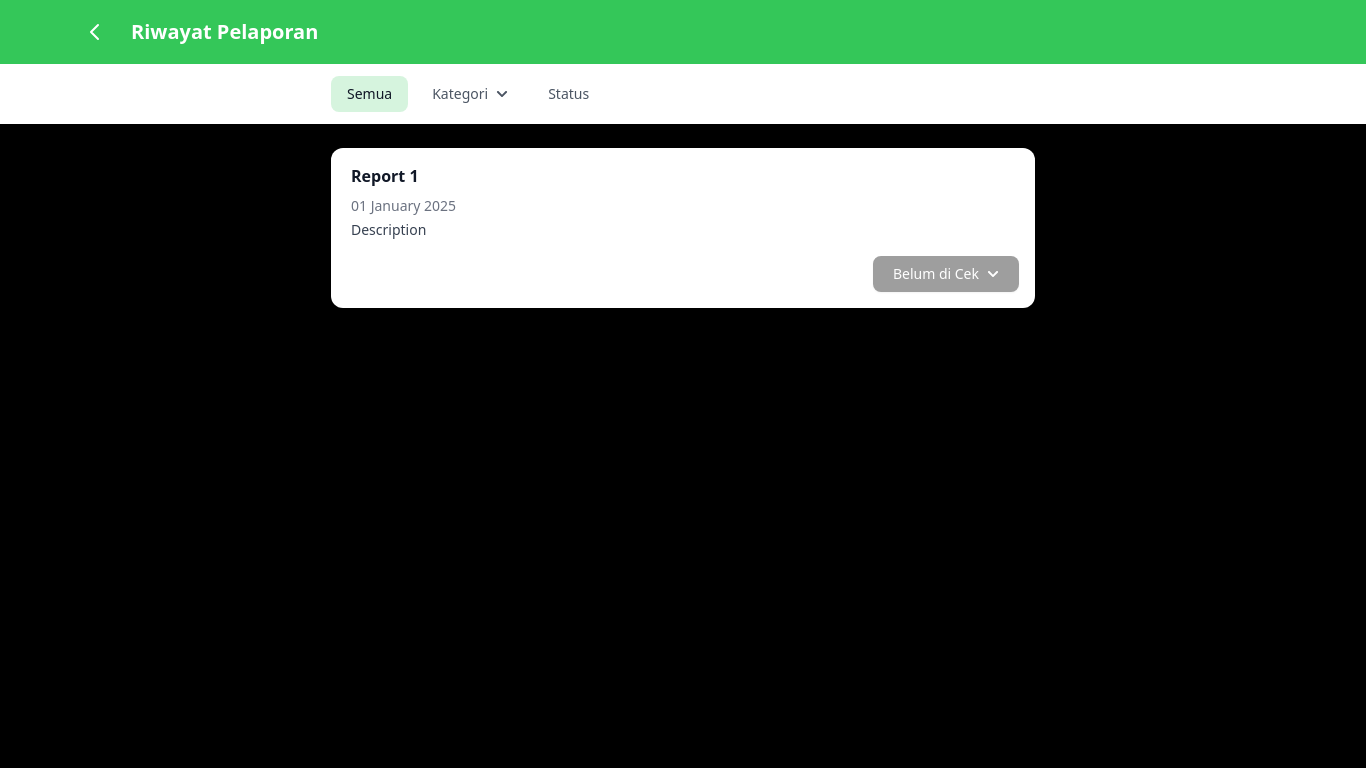
Test: RiwayatPelaporan Component › should toggle select mode
Expected: the heading "Report 1" is shown, [351, 164, 419, 188]
// Find status button and open dropdown
Click the button "Belum di Cek" at (946, 274), box [873, 256, 1019, 292]
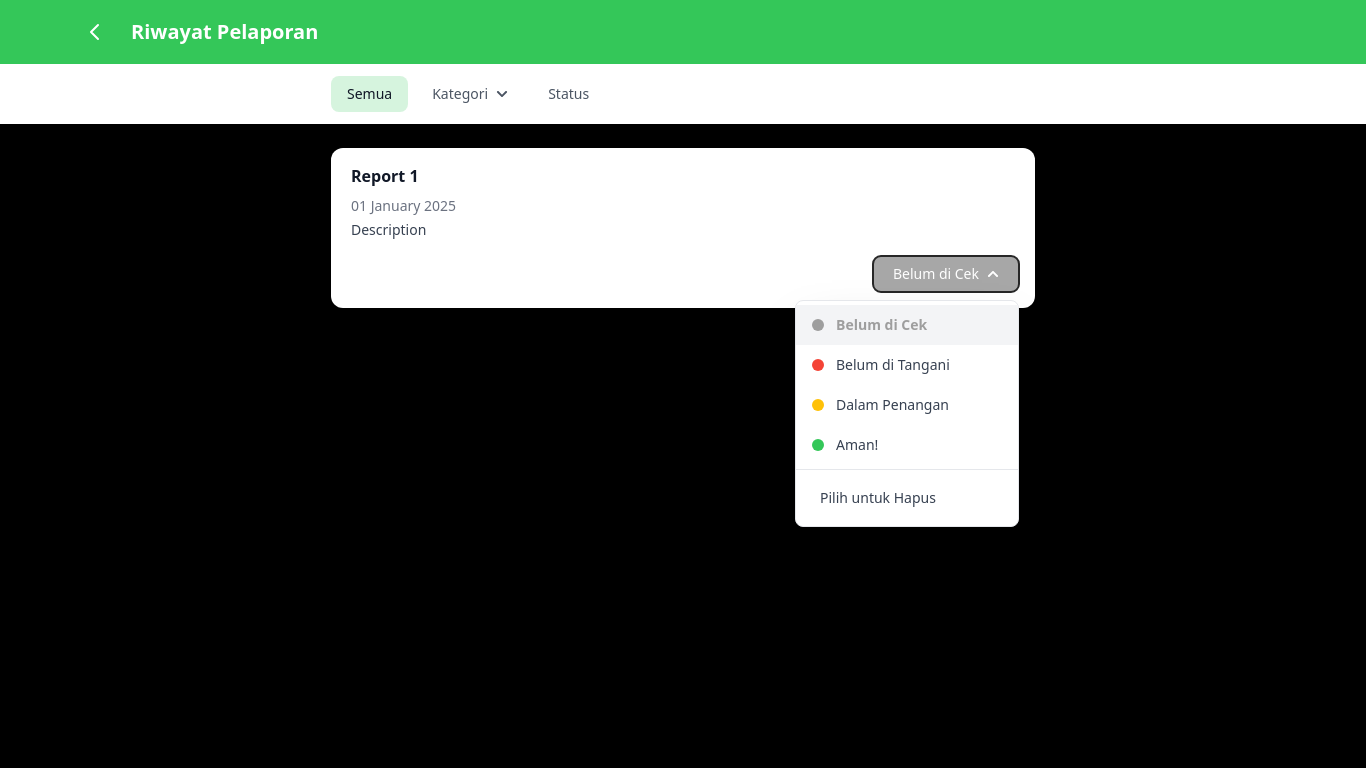
// Wait for dropdown and find "Pilih untuk Hapus" option
Click the button "Pilih untuk Hapus" at (907, 498), box [804, 478, 1010, 518]
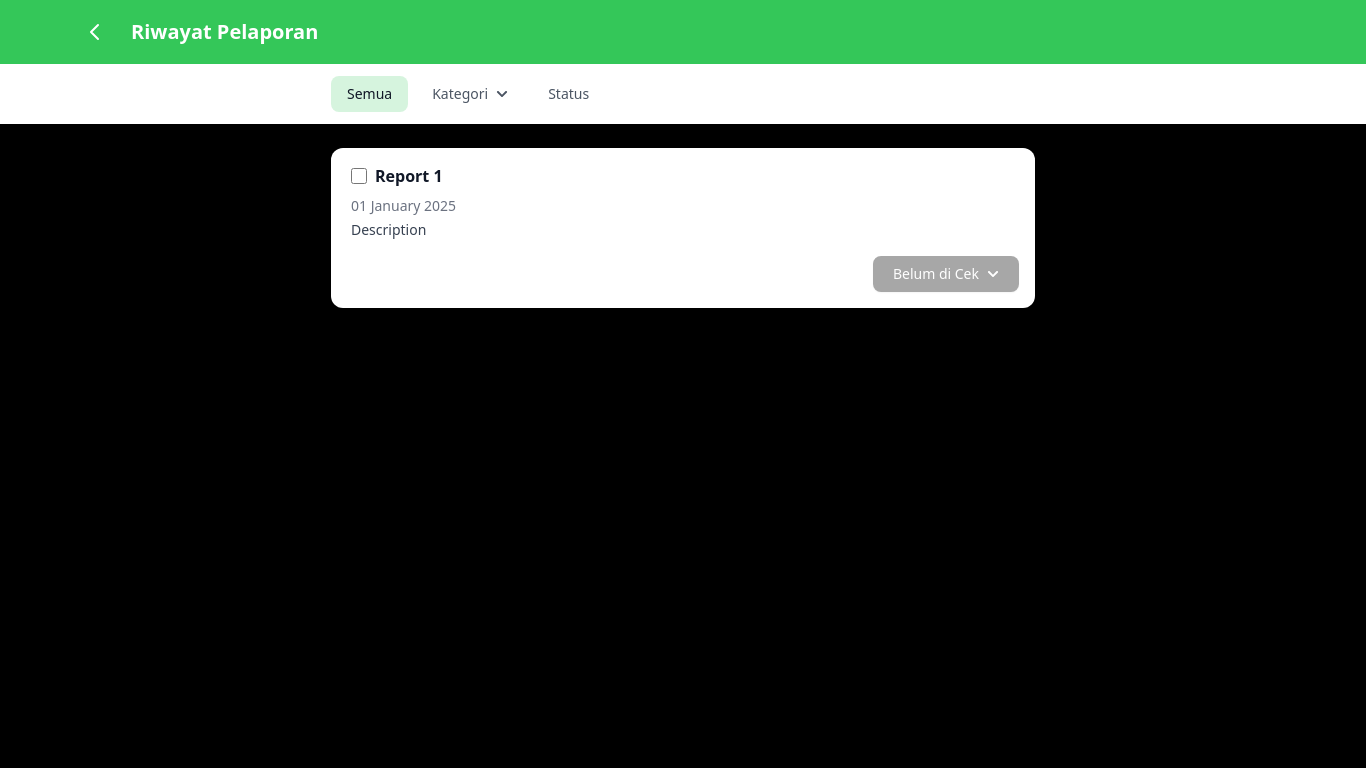
Expected: the checkbox is shown, [351, 168, 367, 184]
